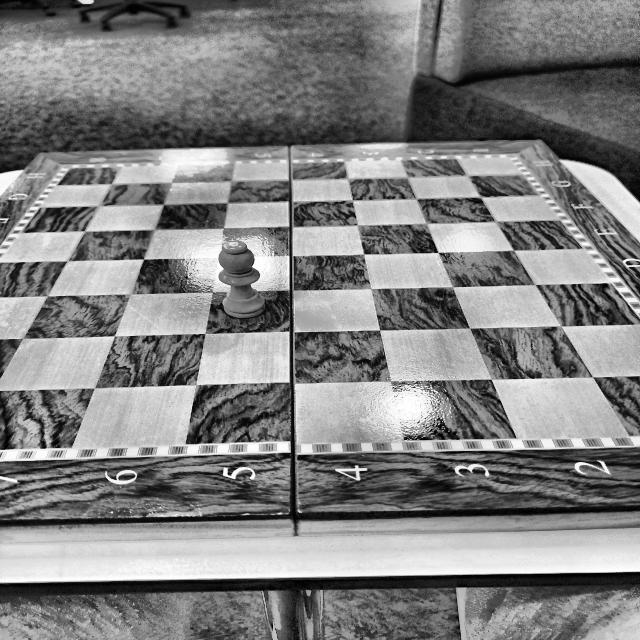white-bishop: (218, 240, 265, 318)
